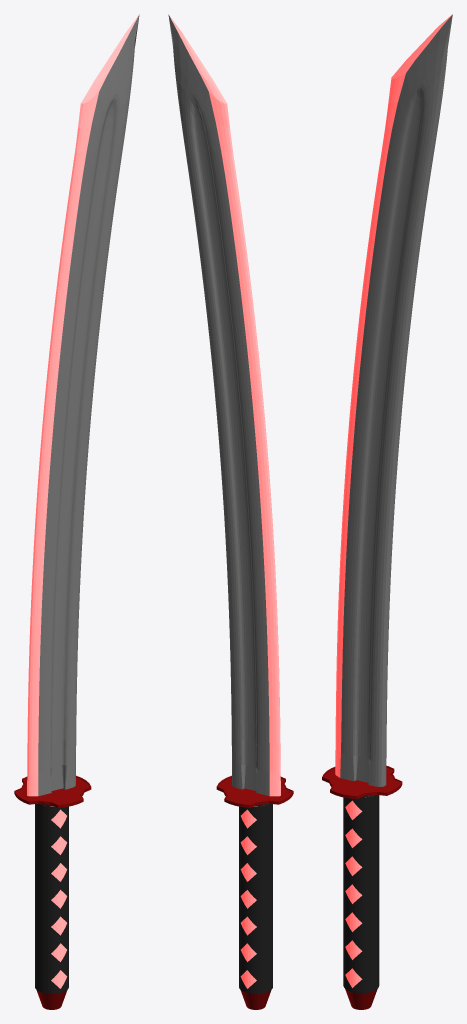
3 views of the same model, side by side, from view 1: azimuth 30°, elevation 25°; view 2: azimuth 150°, elevation 25°; view 3: azimuth 330°, elevation 25° (orthographic). The views are drawn at different scales.
Visible parts, largest first — view 1: FIlo, Guardia; view 2: FIlo, Guardia; view 3: FIlo, Guardia.
Boxes of the visible parts, x1,y1,x2,y2 form: FIlo: (27, 14, 139, 796); Guardia: (14, 775, 91, 1009); FIlo: (168, 14, 280, 796); Guardia: (216, 775, 293, 1009); FIlo: (335, 14, 452, 786); Guardia: (322, 765, 402, 1009).
Size of the model in its own units: 460 by 3544 by 257.
